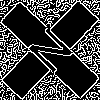N: (25, 25, 83, 83)
